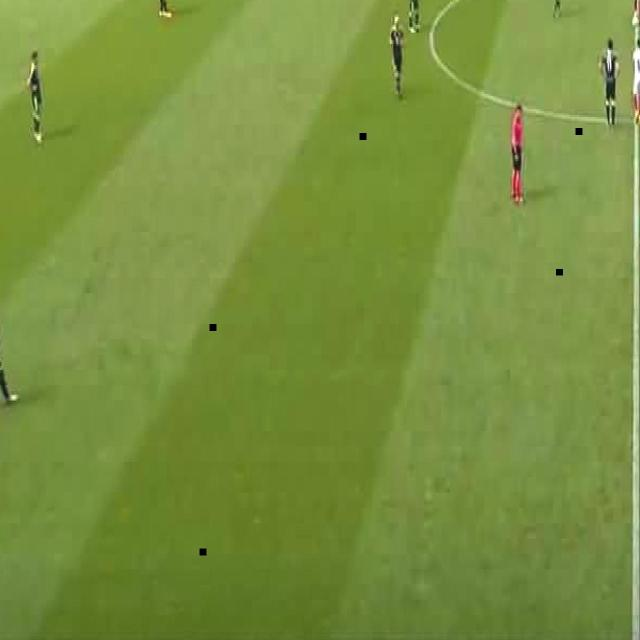ball: (632, 15, 639, 28)
player-white: (1, 290, 20, 412), (600, 40, 619, 126), (28, 51, 44, 143), (510, 106, 524, 201), (390, 15, 404, 99), (632, 36, 640, 122), (407, 0, 420, 32), (550, 0, 564, 17), (157, 1, 171, 16)
